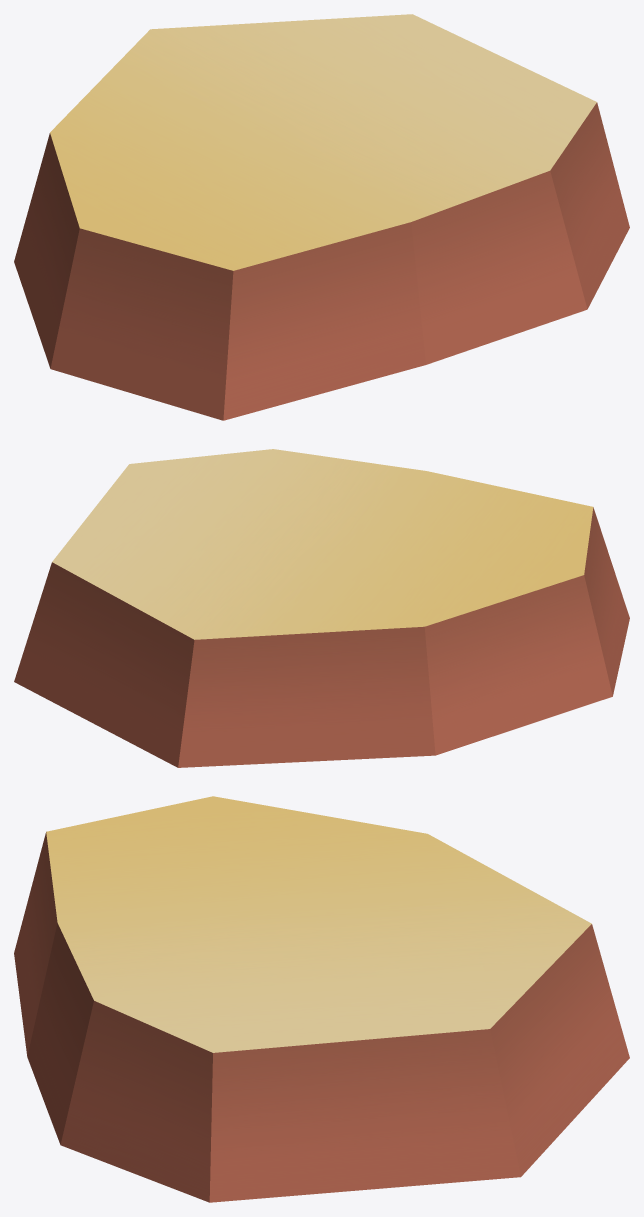
Rendered from cliff3.2.fbx.
3 views of the same model, one above another, from view 1: azimuth 30°, elevation 25°; view 2: azimuth 150°, elevation 25°; view 3: azimuth 270°, elevation 25° (orthographic). The views are drawn at different scales.
Visible parts, largest first — view 1: cliff3.2; view 2: cliff3.2; view 3: cliff3.2.
Boxes of the visible parts, x1,y1,x2,y2 form: cliff3.2: [14, 14, 629, 420]; cliff3.2: [14, 449, 629, 767]; cliff3.2: [14, 796, 629, 1202].
Size of the model in its own units: 3.13 by 0.6811 by 2.83.
